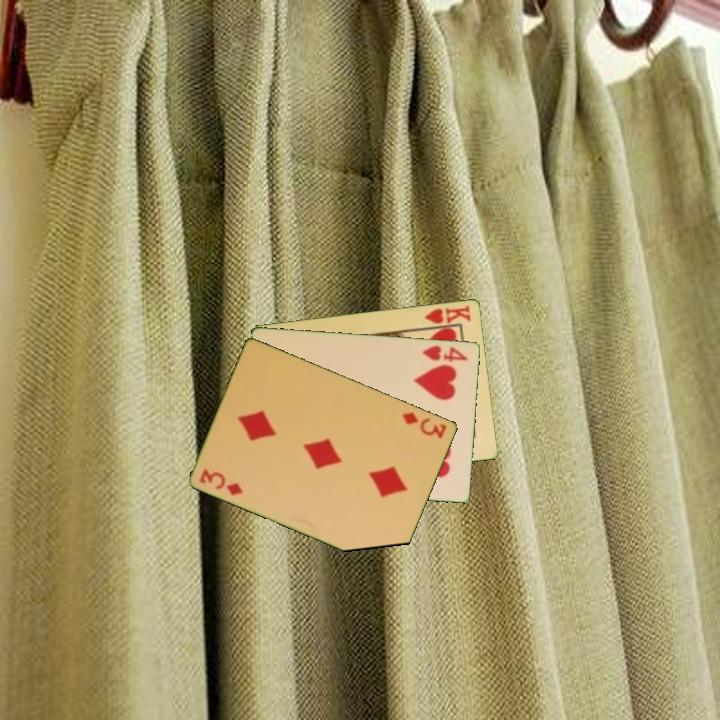3d: (399, 408, 450, 441), (196, 465, 246, 498)
4h: (419, 342, 470, 364)
Kh: (420, 301, 474, 331)
